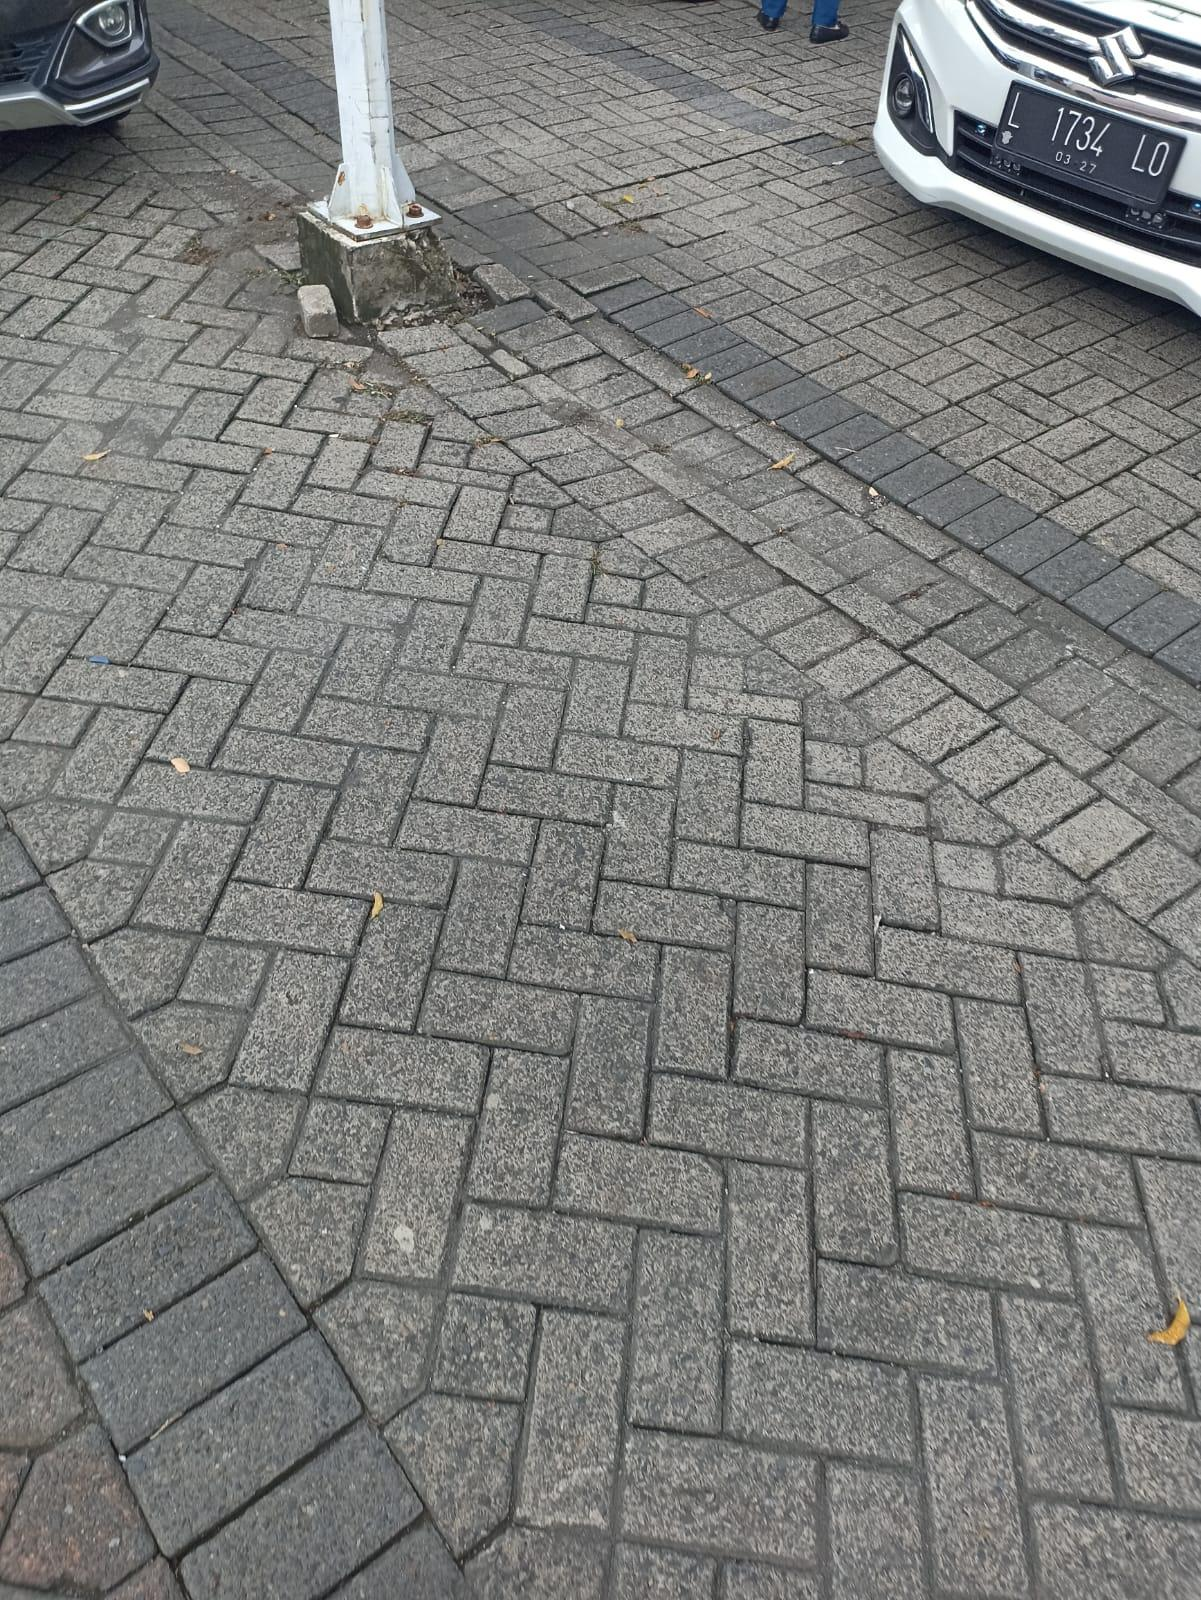plat: (994, 85, 1185, 209)
